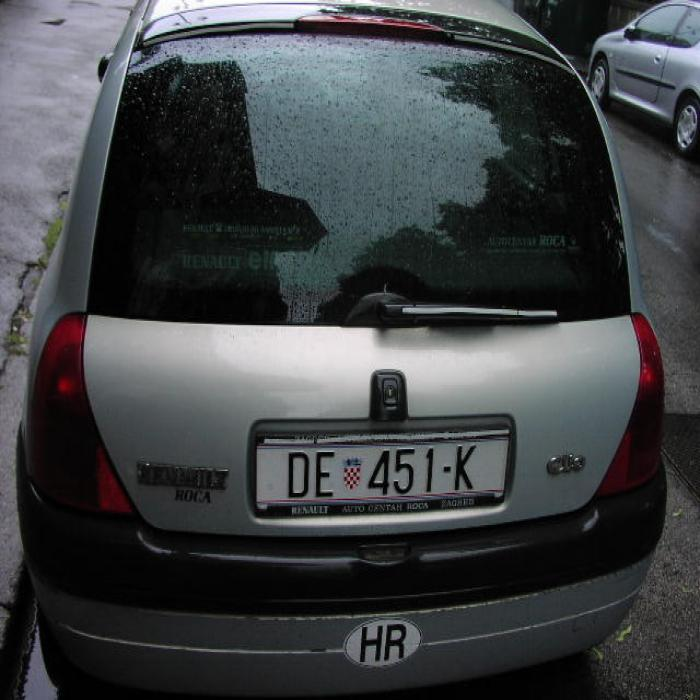number_plate: (256, 441, 504, 498)
